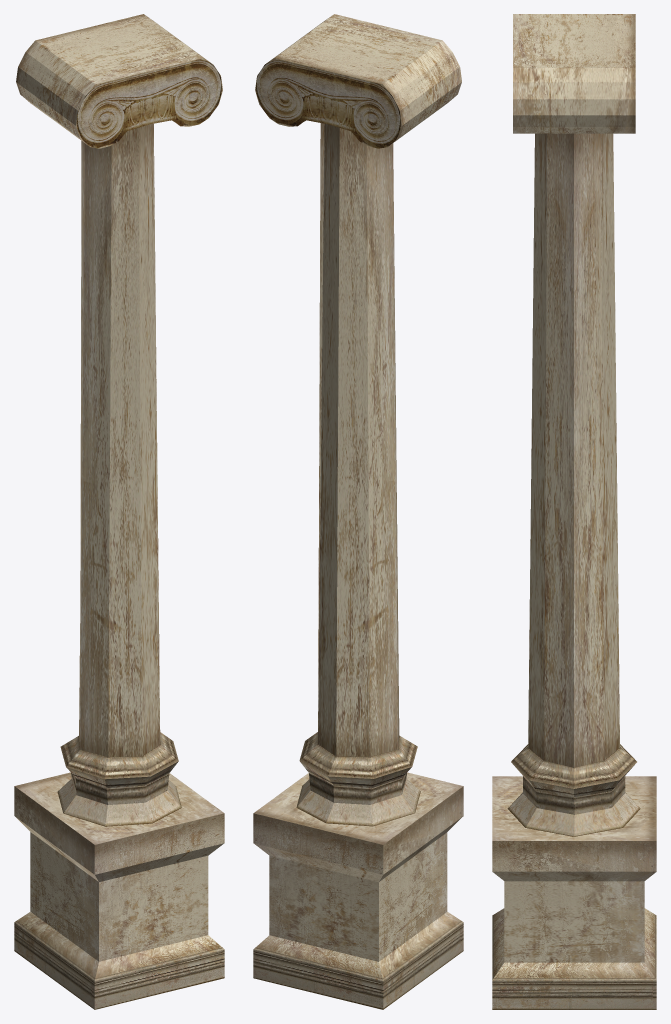
The model's file is svspartapillar6.dae.
3 renders of one model, left to right at view 1: azimuth 30°, elevation 25°; view 2: azimuth 150°, elevation 25°; view 3: azimuth 270°, elevation 25°, orthographic. The views are drawn at different scales.
Parts seen in each view (by area): view 1: cylinder4_sep42-0; view 2: cylinder4_sep42-0; view 3: cylinder4_sep42-0.
Boxes of the visible parts, x1,y1,x2,y2 form: cylinder4_sep42-0: (14,14,224,1009); cylinder4_sep42-0: (253,14,463,1009); cylinder4_sep42-0: (492,14,656,1009).
Size of the model in its own units: 134 by 799 by 127.
